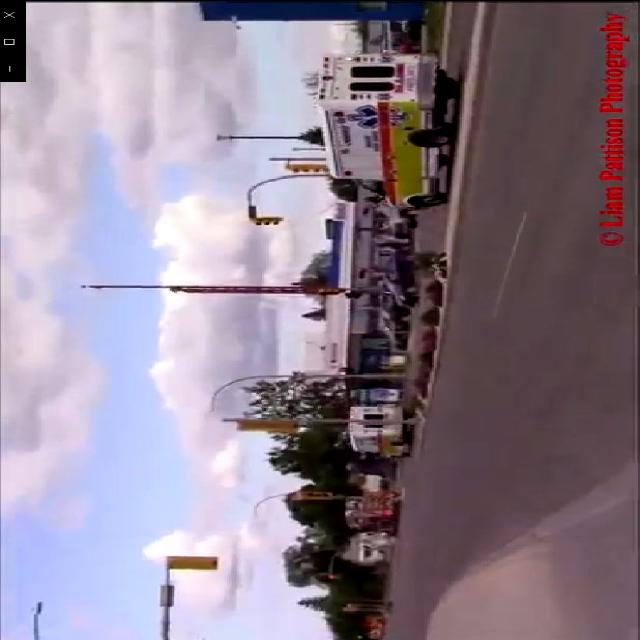emergency: (308, 43, 468, 213), (344, 400, 420, 462), (338, 484, 406, 538)
